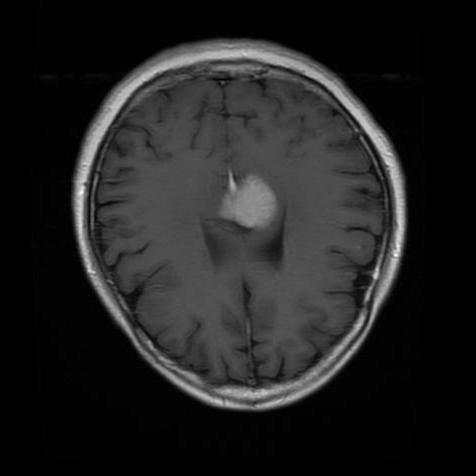Tumour-Meningioma: (182, 148, 307, 314)
